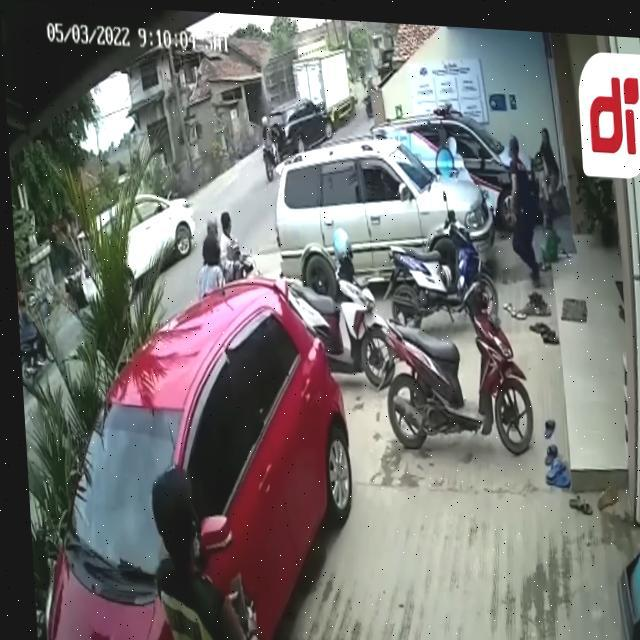multiple_accident: (20, 36, 558, 486)
